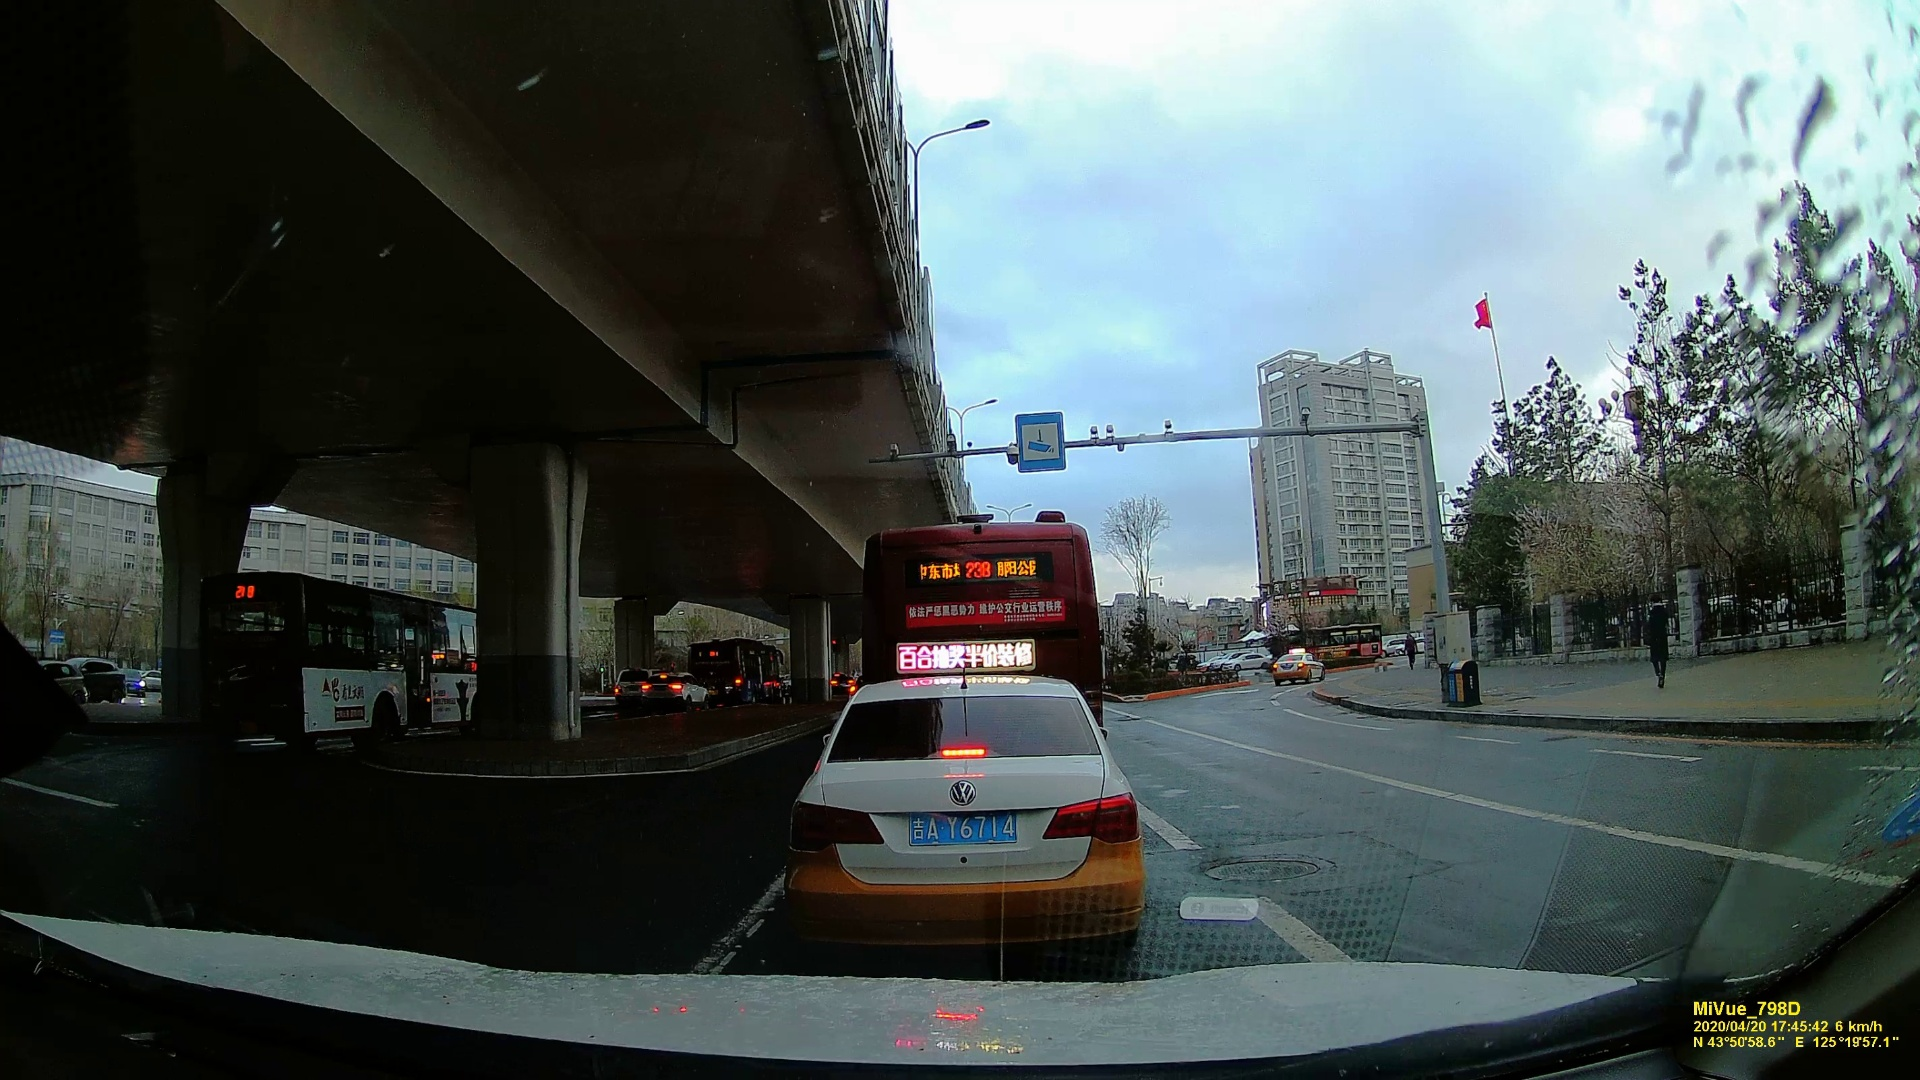bus: (237, 580, 478, 739), (871, 520, 1088, 690), (692, 636, 777, 702), (1267, 627, 1382, 665)
person: (1643, 602, 1670, 691), (1401, 630, 1420, 668)
traffic_sign: (1014, 410, 1068, 470)
vehicle: (783, 662, 1152, 945), (27, 650, 151, 712), (642, 669, 710, 710), (1275, 652, 1327, 684)
